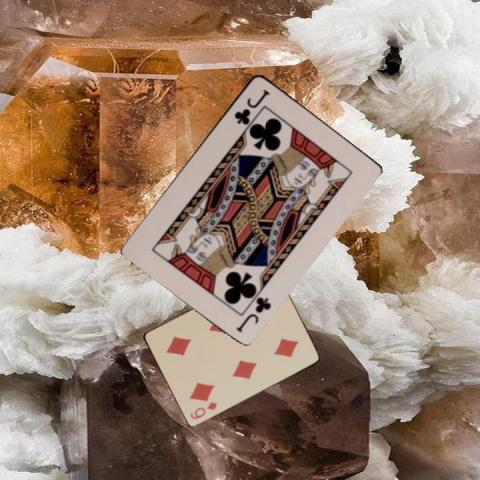6d: (187, 399, 219, 421)
Jc: (232, 293, 272, 334), (230, 86, 270, 126)
